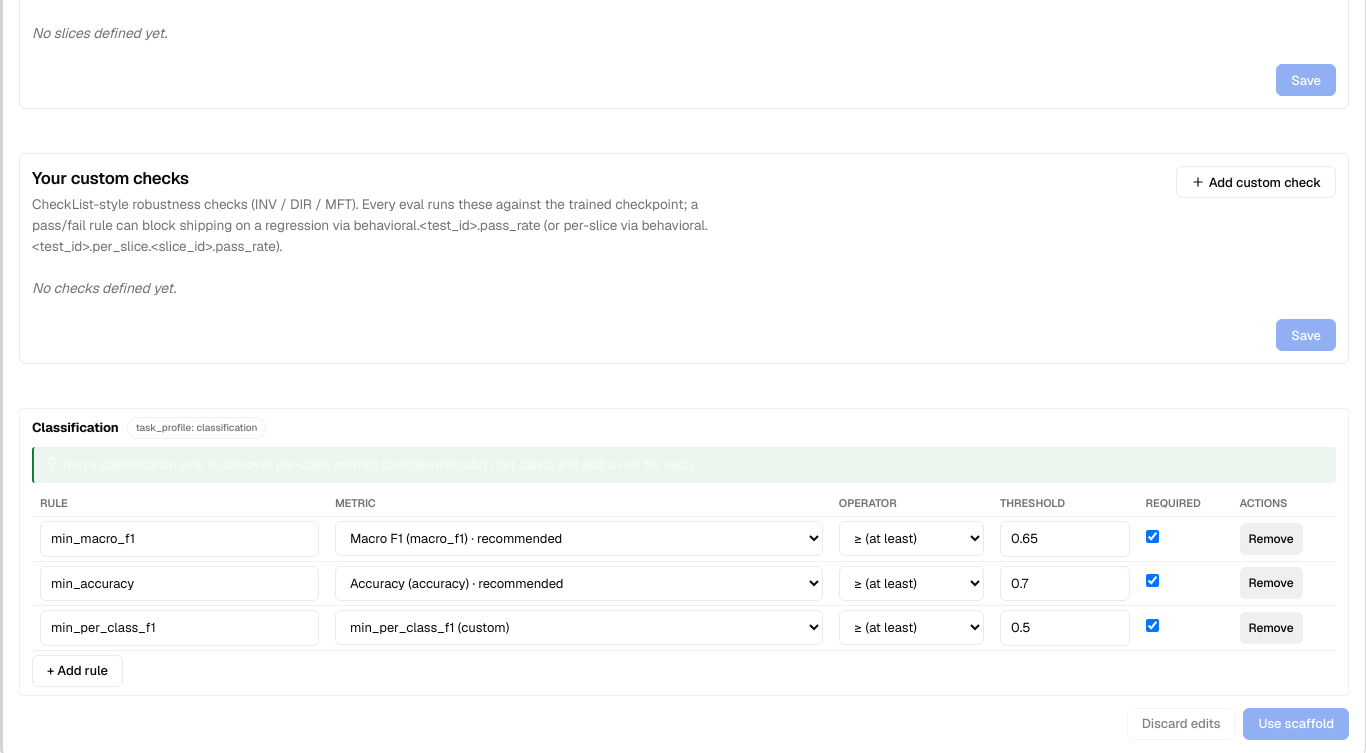
EvalPackScaffoldPanel › add gate appends a row using a recipe-recommended metric
(page scrolled)
Expected: the dropdown with test id "eval-pack-scaffold-gate-min_macro_f1-metric" is shown, [335,521,823,556]
Click the button with test id "eval-pack-scaffold-task-classification-add-gate" at {"x": 77, "y": 671}, box [32,655,123,687]
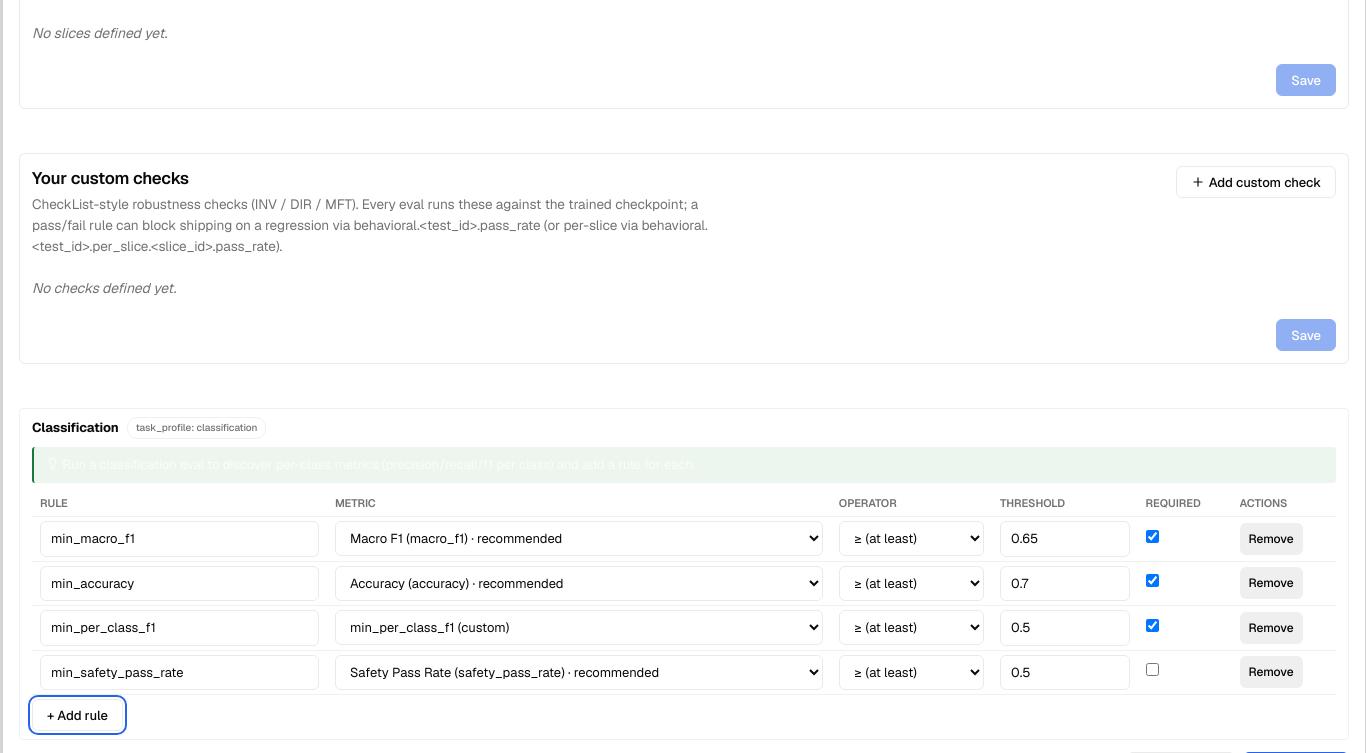
Result: the row with test id "eval-pack-scaffold-gate-min_safety_pass_rate" is shown at [32,650,1336,695]
Result: the dropdown with test id "eval-pack-scaffold-gate-min_safety_pass_rate-metric" shows "Safety Pass Rate (safety_pass_rate) · recommended" at [335,655,823,690]
